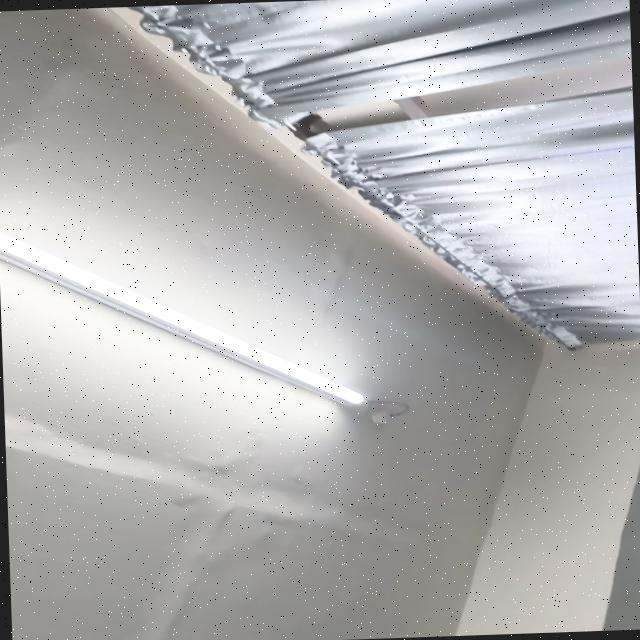Light: (0, 233, 407, 423)
